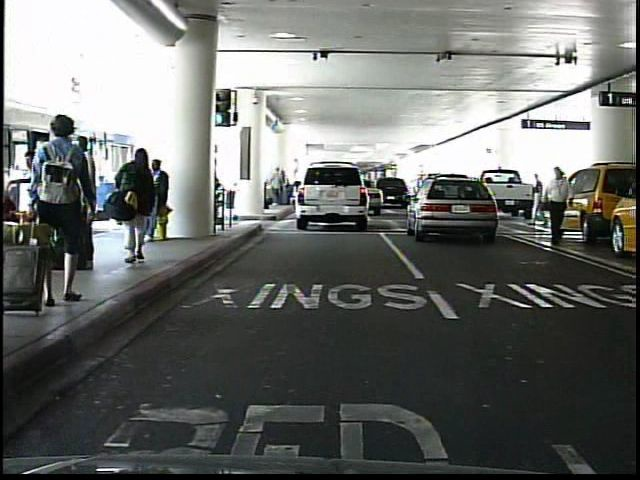person: (40, 109, 97, 318), (118, 141, 166, 271), (545, 164, 575, 250), (148, 158, 173, 241), (533, 171, 549, 223), (552, 170, 562, 209)
